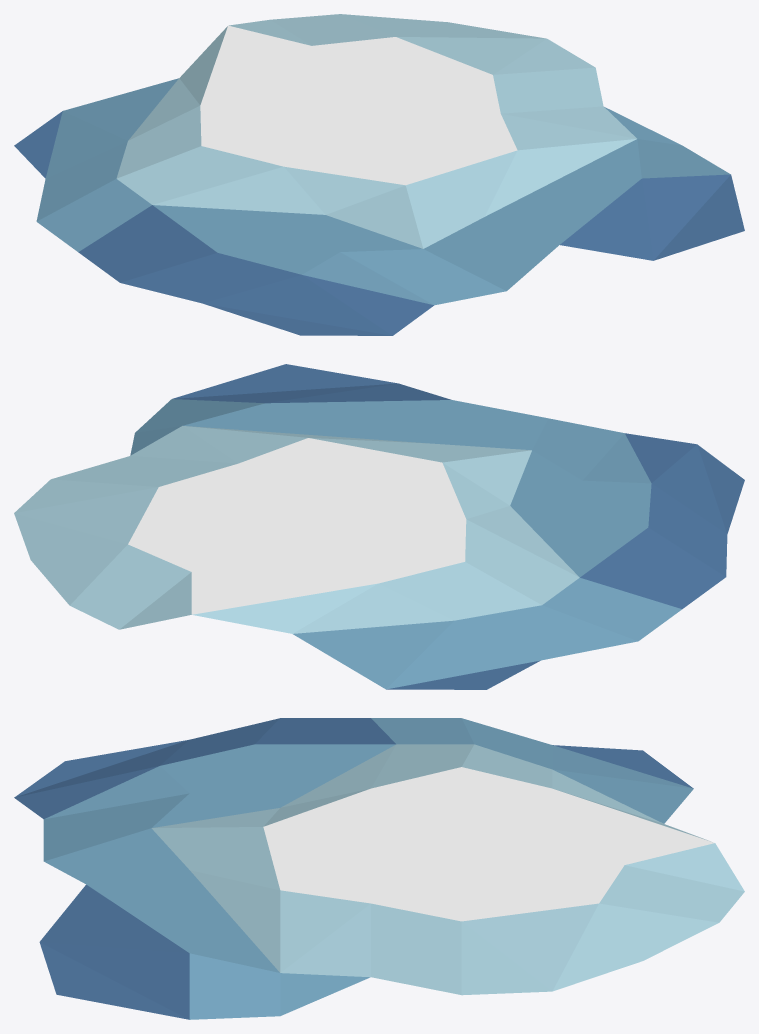
The model's file is terrainSeaFloor1.fbx.
3 views of the same model, one above another, from view 1: azimuth 30°, elevation 25°; view 2: azimuth 150°, elevation 25°; view 3: azimuth 270°, elevation 25° (orthographic). The views are drawn at different scales.
Visible parts, largest first — view 1: seafloor; view 2: seafloor; view 3: seafloor.
Part boxes in pixels (x1,y1,x2,y2): seafloor: (14,14,744,335); seafloor: (14,364,744,689); seafloor: (14,718,744,1019).
Size of the model in its own units: 1050 by 62.5 by 1075.
1 material, 1 textured.
